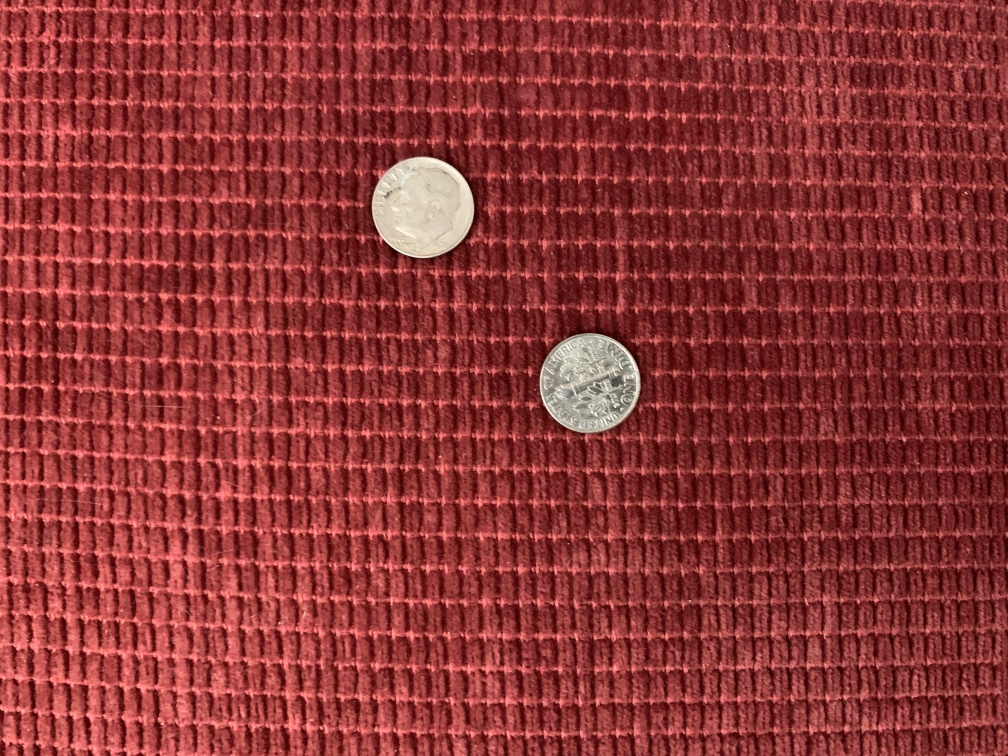dime: (367, 153, 478, 267), (536, 327, 647, 437)
